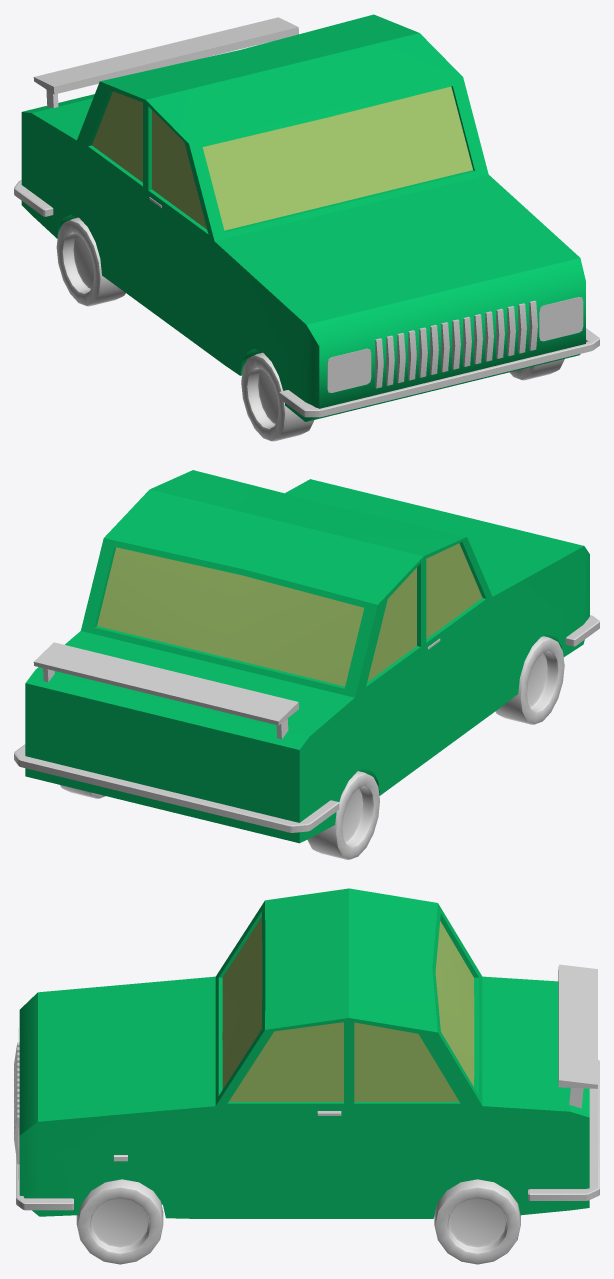
Rendered from year3 CAR1[01].fbx.
3 views of the same model, one above another, from view 1: azimuth 30°, elevation 25°; view 2: azimuth 150°, elevation 25°; view 3: azimuth 270°, elevation 25° (orthographic). The views are drawn at different scales.
Visible parts, largest first — view 1: Box001, Shape019, Cylinder010, Cylinder012, Shape017, Object001, Shape018, Cylinder009; view 2: Box001, Shape019, Shape018, Cylinder012, Cylinder010, Shape017; view 3: Box001, Cylinder009, Cylinder011, Shape019, Shape018, Shape017.
Boxes of the visible parts, x1,y1,x2,y2 form: Box001: (21, 14, 585, 421); Shape019: (33, 17, 298, 94); Cylinder010: (241, 352, 314, 441); Cylinder012: (56, 217, 125, 306); Shape017: (279, 328, 599, 417); Object001: (327, 297, 583, 392); Shape018: (14, 180, 53, 216); Cylinder009: (509, 359, 564, 380); Box001: (25, 470, 589, 843); Shape019: (33, 642, 298, 725); Shape018: (14, 744, 339, 832); Cylinder012: (307, 771, 379, 859); Cylinder010: (495, 636, 564, 724); Shape017: (565, 615, 599, 646); Box001: (19, 888, 589, 1218); Cylinder009: (76, 1179, 163, 1264); Cylinder011: (434, 1179, 520, 1264); Shape019: (558, 964, 597, 1088); Shape018: (528, 1060, 599, 1200); Shape017: (16, 1155, 73, 1210).
Bounding box in the file's own units: 2.11 × 1.72 × 3.73.
